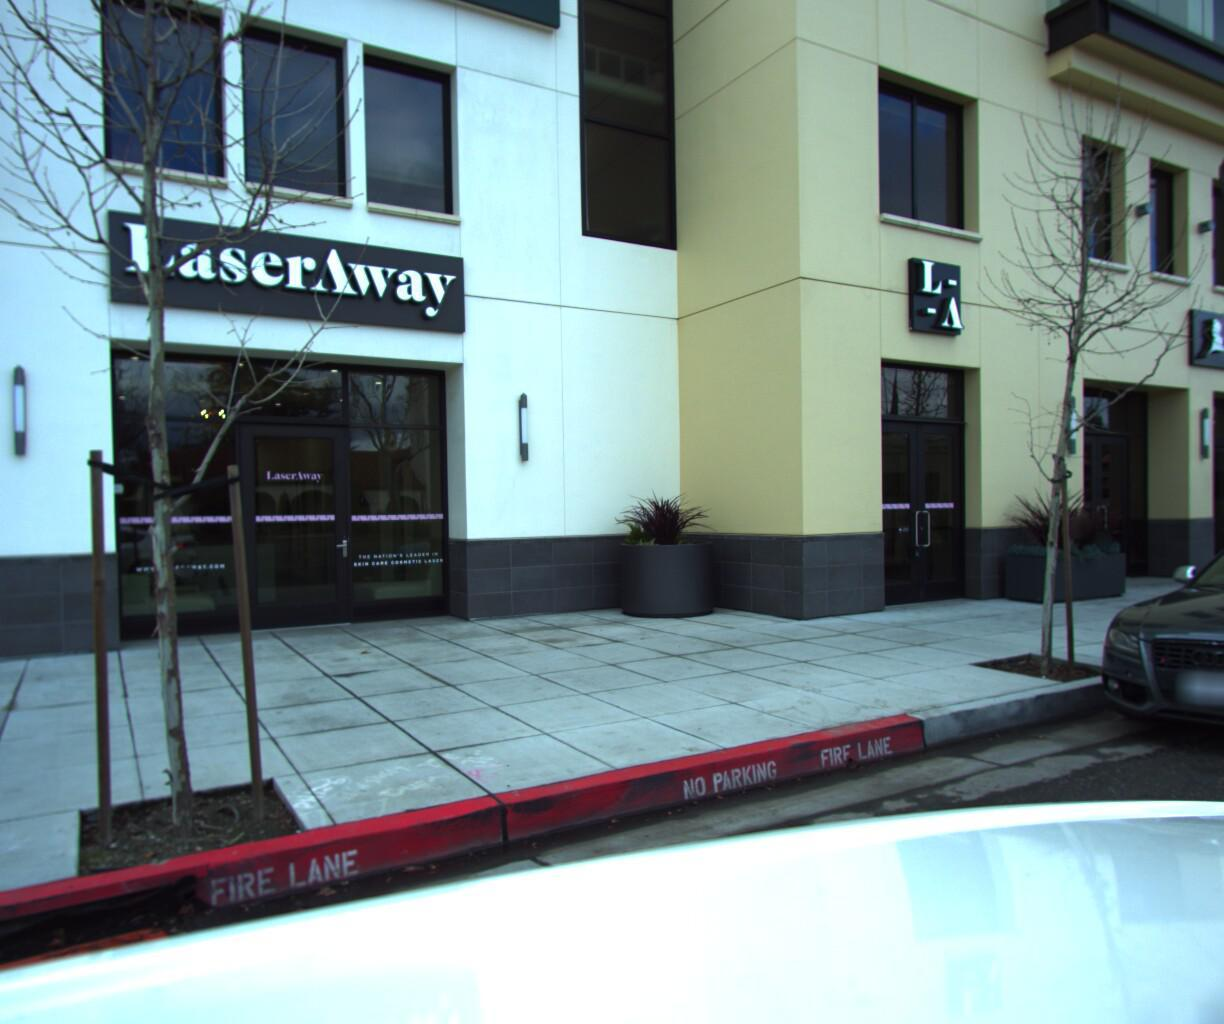car: (1056, 508, 1224, 810)
